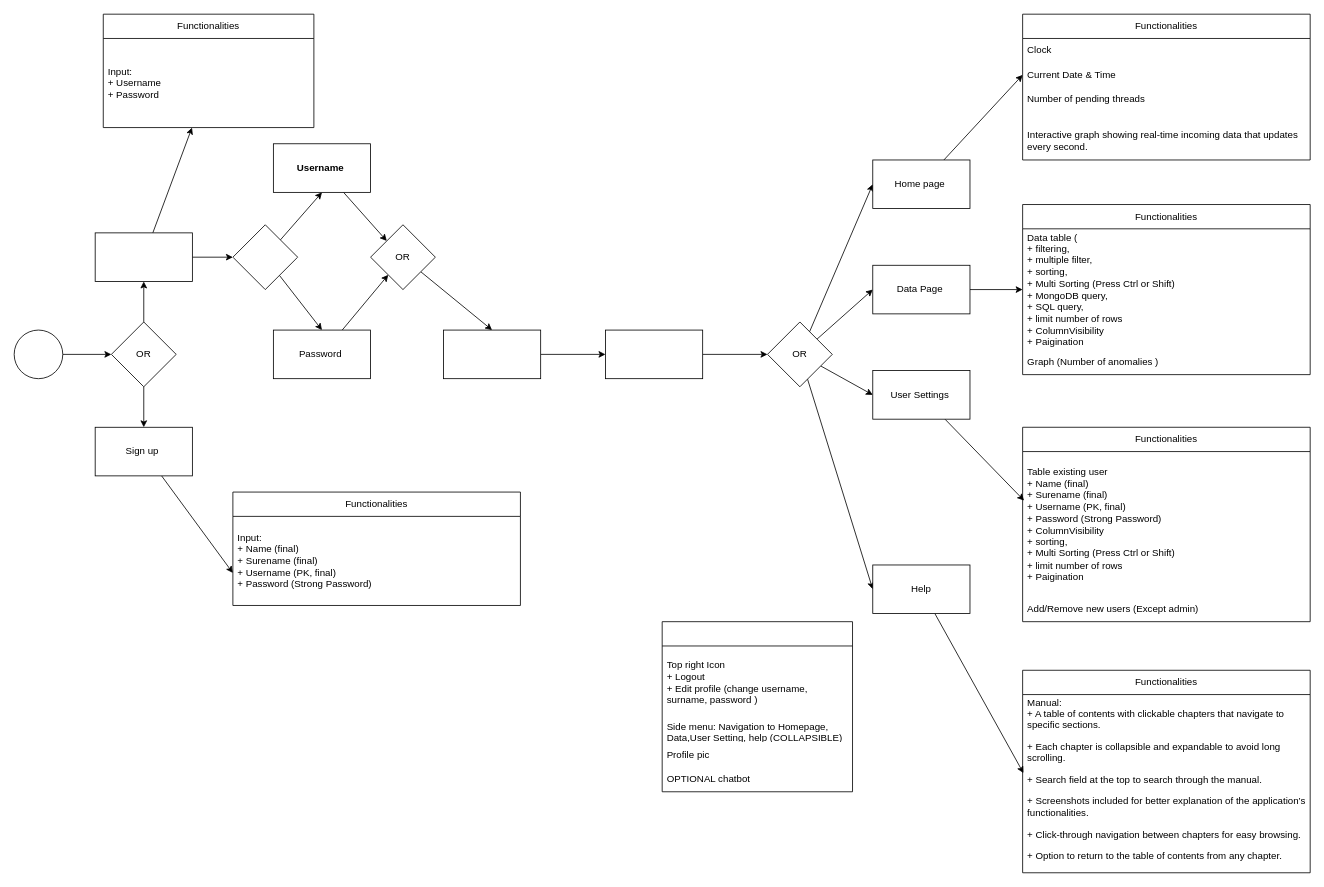
Some shapes in this 1324 by 887 pixel diagram are drawn without their labels. Each missing label, with the box of its shape:
AND: (232, 224, 298, 290)
Common functionalities: (661, 621, 853, 792)
Forward to HomePage: (605, 329, 703, 379)
Login: (94, 232, 192, 281)
Success: (443, 329, 541, 379)
User: (13, 329, 63, 379)
